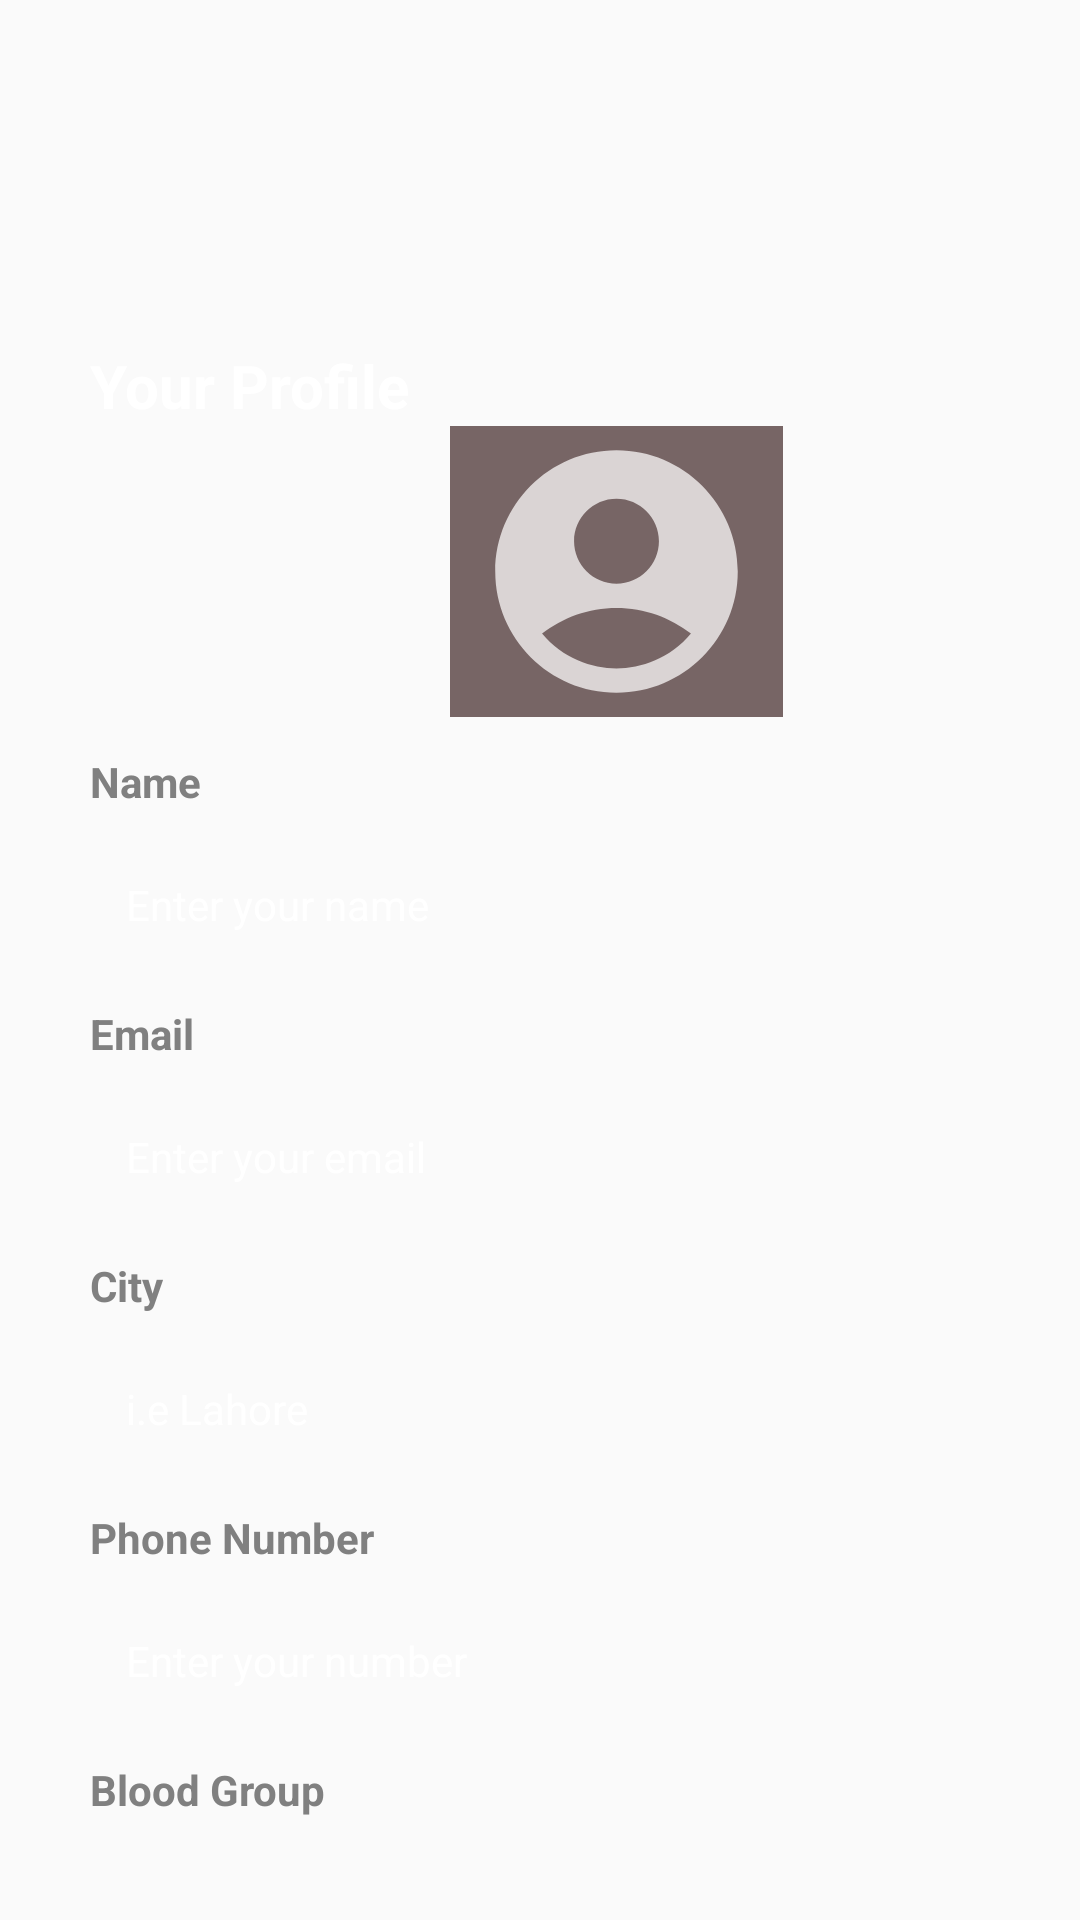

Locate icon controls on the screen. Image size 1080*1920, boxes as (x1, y1, x2, y2).
User profile picture: (450, 426, 783, 717)
